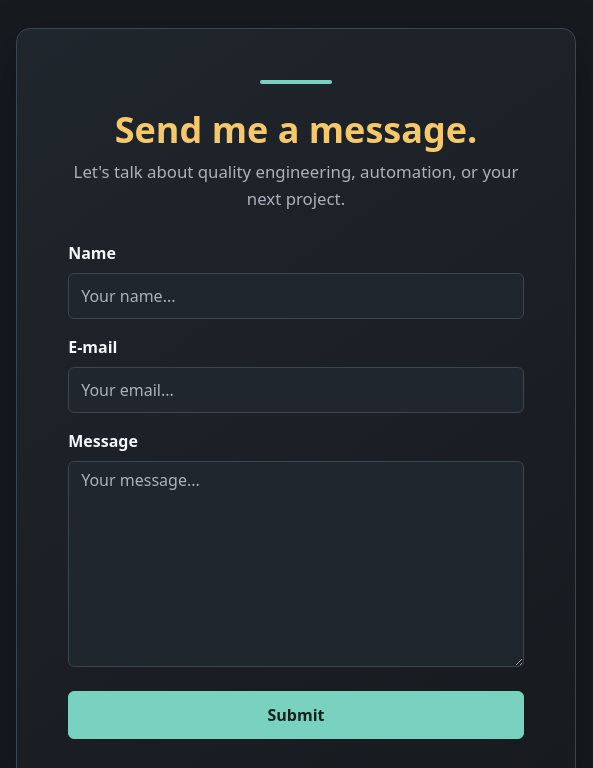
Contact page › when sending goes wrong › shows an error when the API fails
Type "  Jane Doe " into the field labelled "Name".
click(296, 296); type("  Jane Doe ")  # box [68,273,524,319]
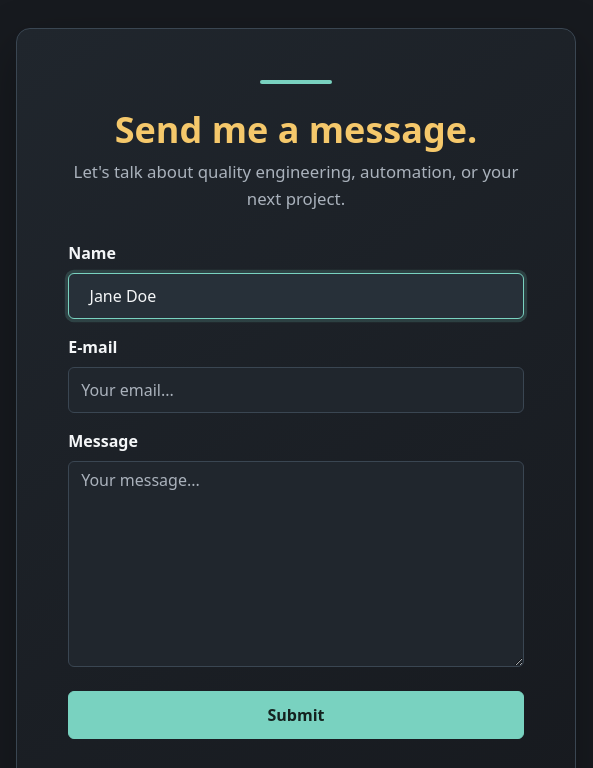
Type "jane@example.com" into the field labelled "E-mail".
click(296, 390); type("jane@example.com")  # box [68,367,524,413]
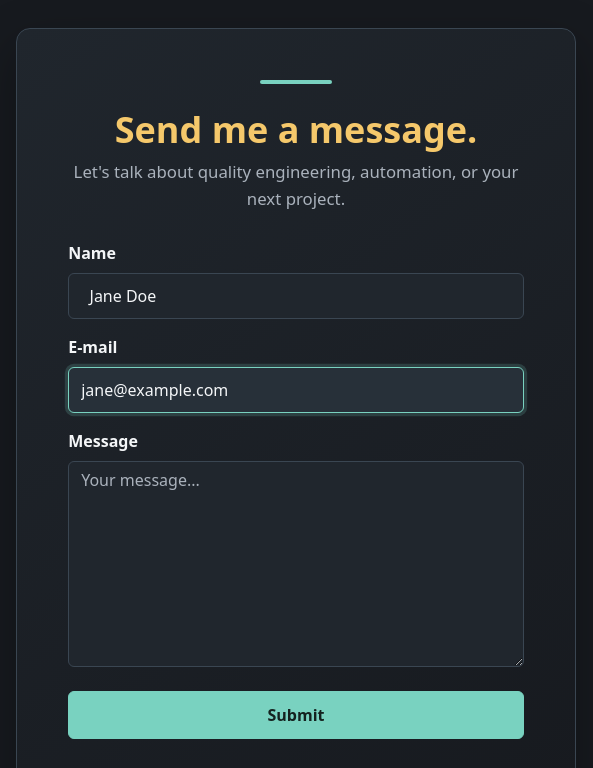
Type "Hello from a test" into the text box labelled "Message".
click(296, 564); type("Hello from a test")  # box [68,461,524,667]
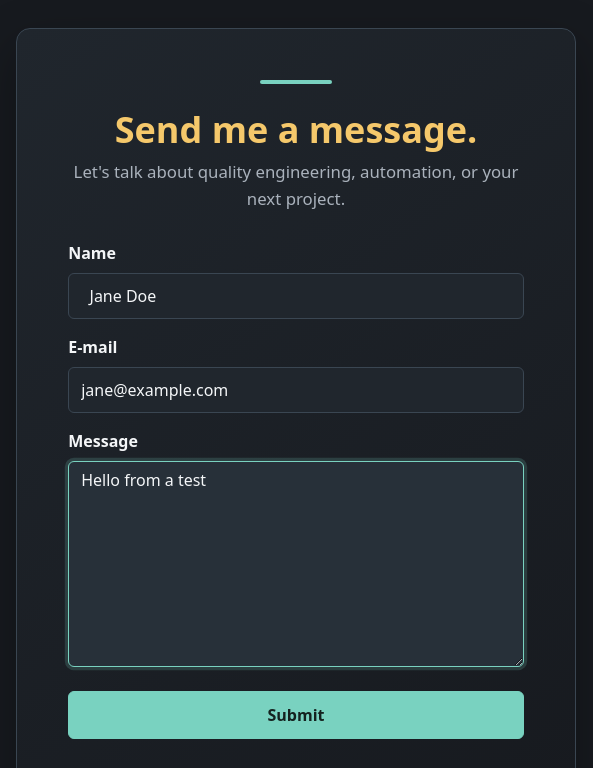
Click the button "Submit".
click(296, 715)  # box [68,691,524,739]
(page scrolled)
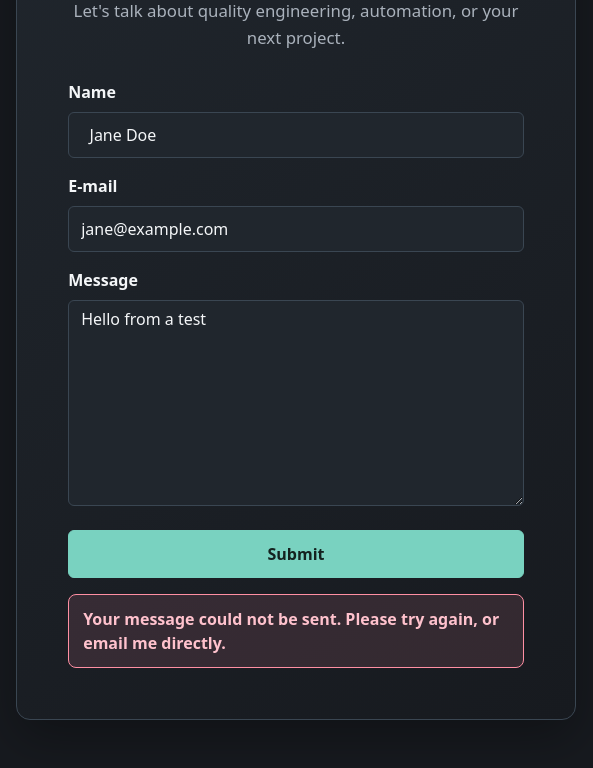
expect the message shows "could not be sent": met, box [83,608,499,654]
